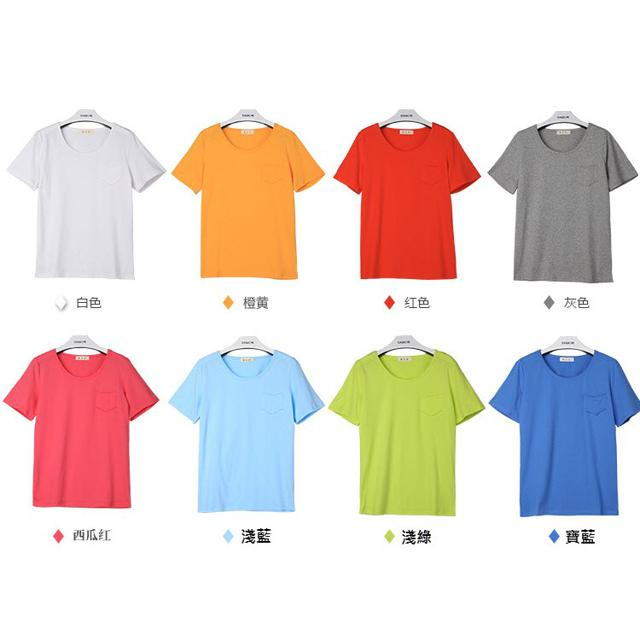Tops: (332, 348, 485, 517), (169, 351, 322, 514), (170, 119, 325, 279), (12, 119, 162, 283), (493, 350, 640, 516), (6, 351, 159, 508), (490, 121, 635, 284), (336, 121, 480, 281)
